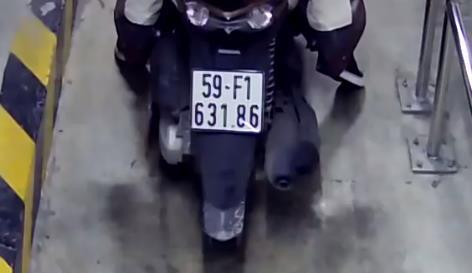lisence: (191, 67, 262, 133)
